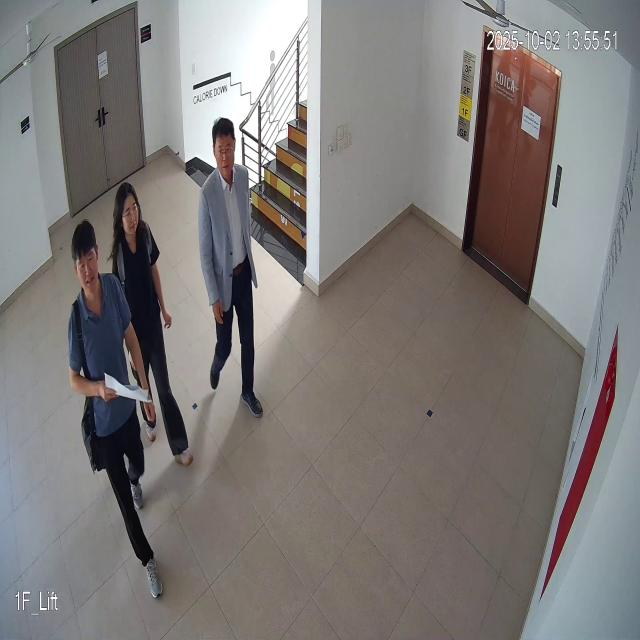face: (69, 218, 100, 298), (210, 111, 239, 186), (112, 180, 144, 242)
